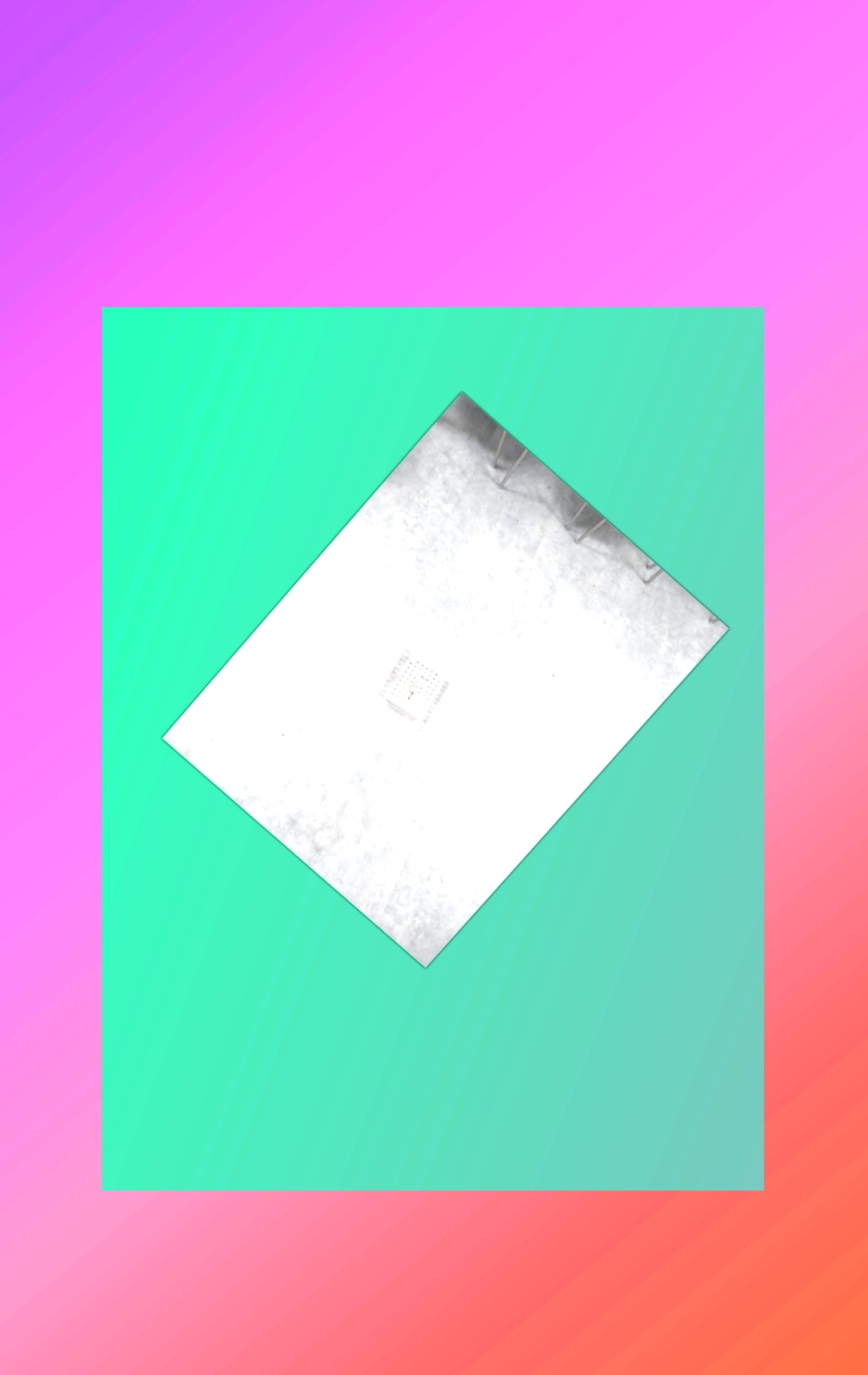basket: (380, 652, 446, 724)
mannequin: (406, 675, 422, 704)
